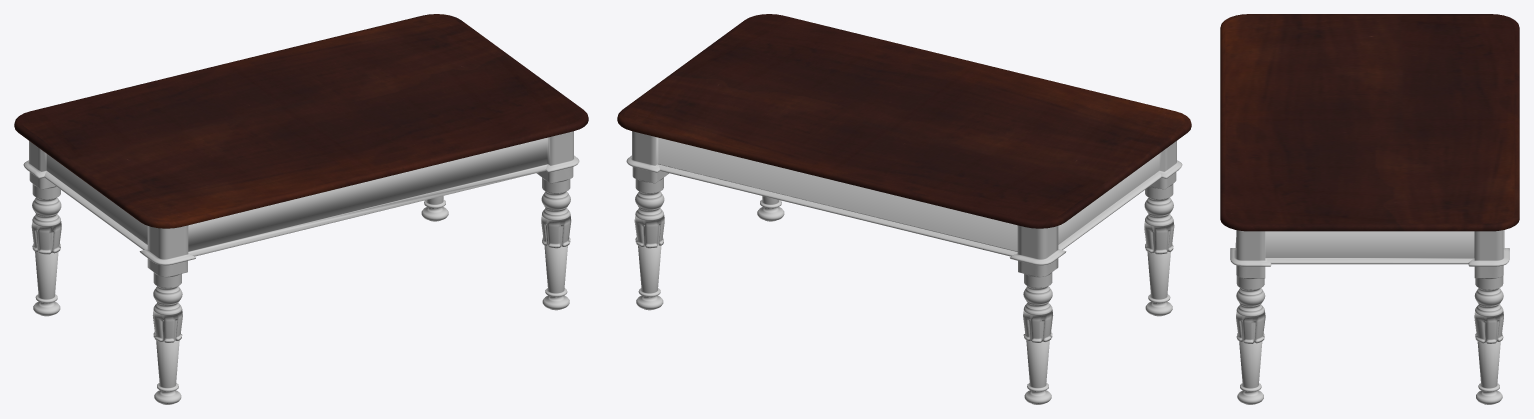
File: Mesa estilizada.fbx
The picture shows the model from 3 angles, left to right: view 1: azimuth 30°, elevation 25°; view 2: azimuth 150°, elevation 25°; view 3: azimuth 270°, elevation 25°; orthographic projection.
Visible parts, largest first — view 1: Table Top, Legs and Rails; view 2: Table Top, Legs and Rails; view 3: Table Top, Legs and Rails.
Boxes of the visible parts, left/top/right/bottom form: Table Top: left=14, top=14, right=588, bottom=228; Legs and Rails: left=23, top=131, right=579, bottom=404; Table Top: left=617, top=14, right=1191, bottom=228; Legs and Rails: left=626, top=131, right=1182, bottom=404; Table Top: left=1220, top=14, right=1519, bottom=231; Legs and Rails: left=1230, top=230, right=1509, bottom=404.
Size of the model in its own units: 1371 by 566 by 814.
